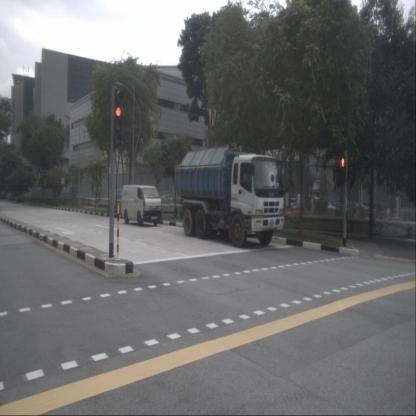vehicle-bicycle: (366, 214, 388, 238)
vehicle-car: (121, 184, 162, 226), (336, 200, 371, 220)
vehicle-truck: (174, 144, 284, 248)
